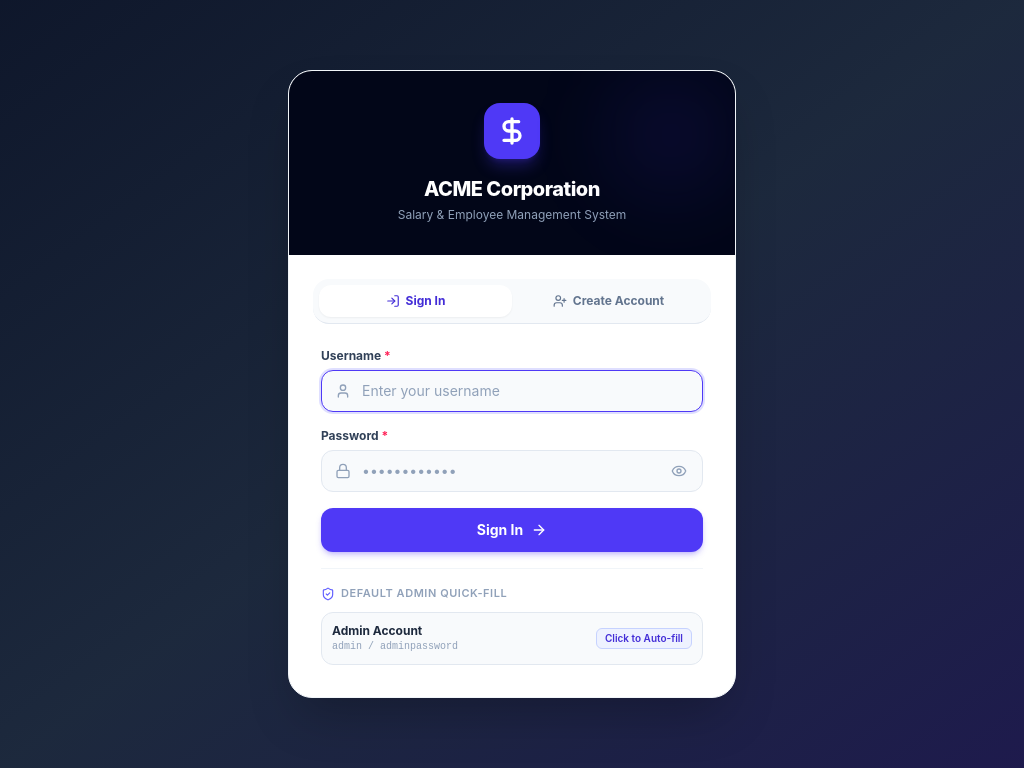
it: LoginPage Component & Edge Cases › should show error when passwords do not match during sign up
The image size is (1024, 768).
// Switch to Sign Up
Click the button with test id "signup-tab" at (608, 301), box [512,285,705,317]
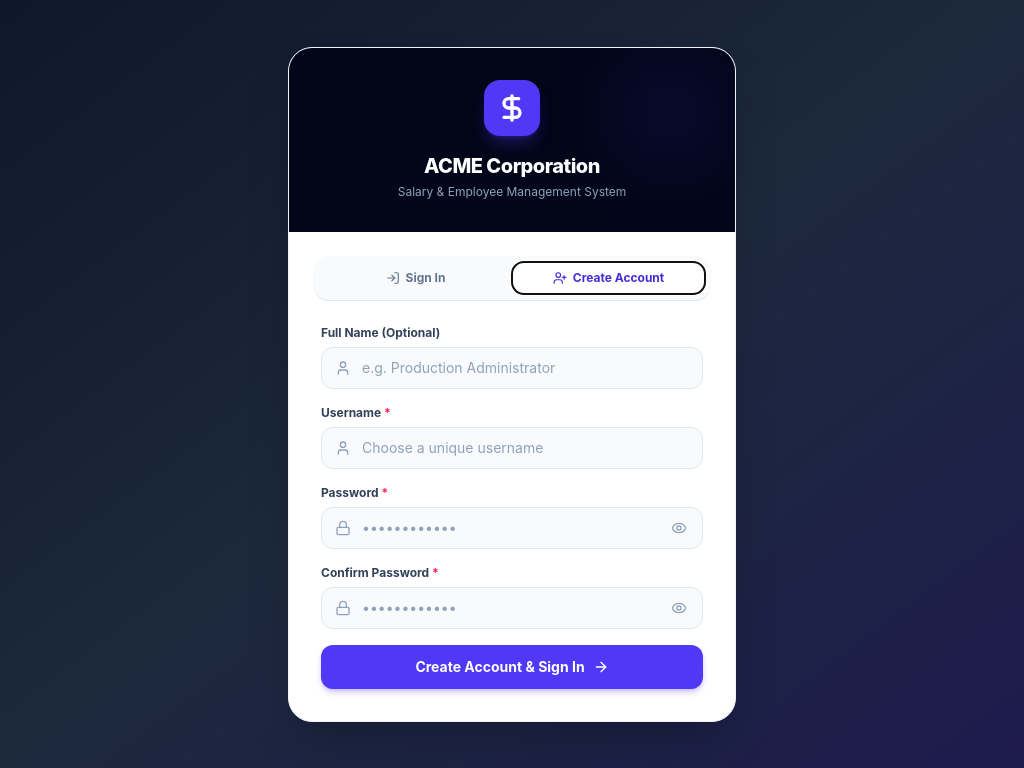
Type "newadmin" into the field with placeholder "Choose a unique username" at (512, 448), box [321,426,703,468]
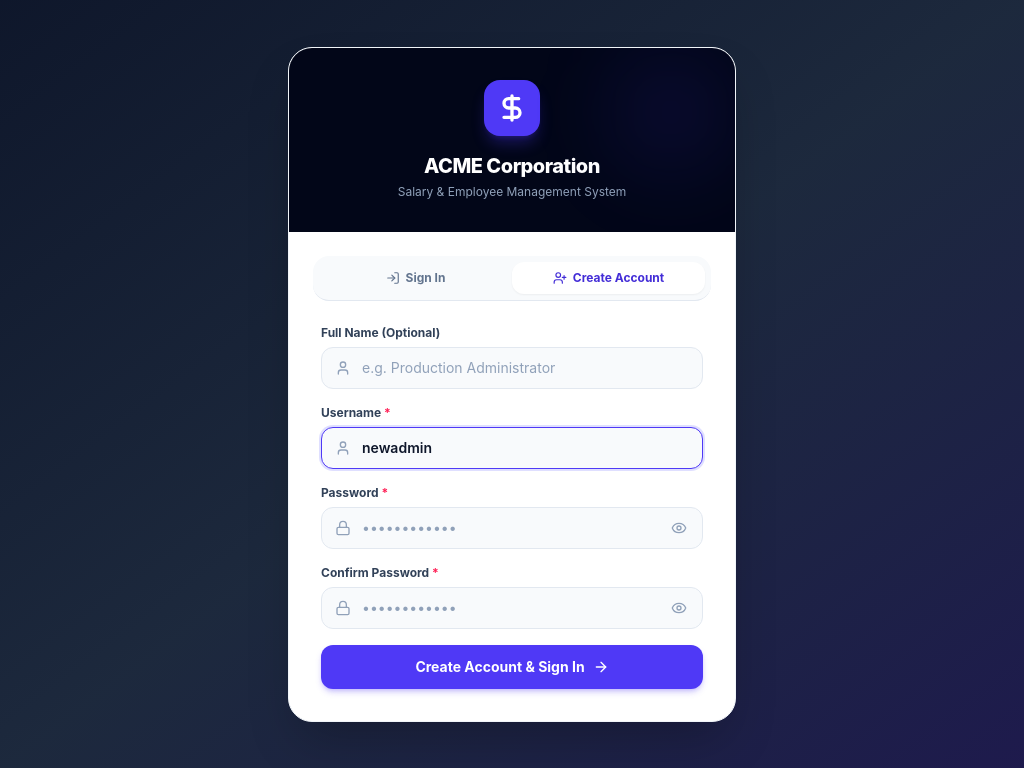
Type "password123" into the 1st password field with placeholder "••••••••••••" at (512, 528), box [321,506,703,548]
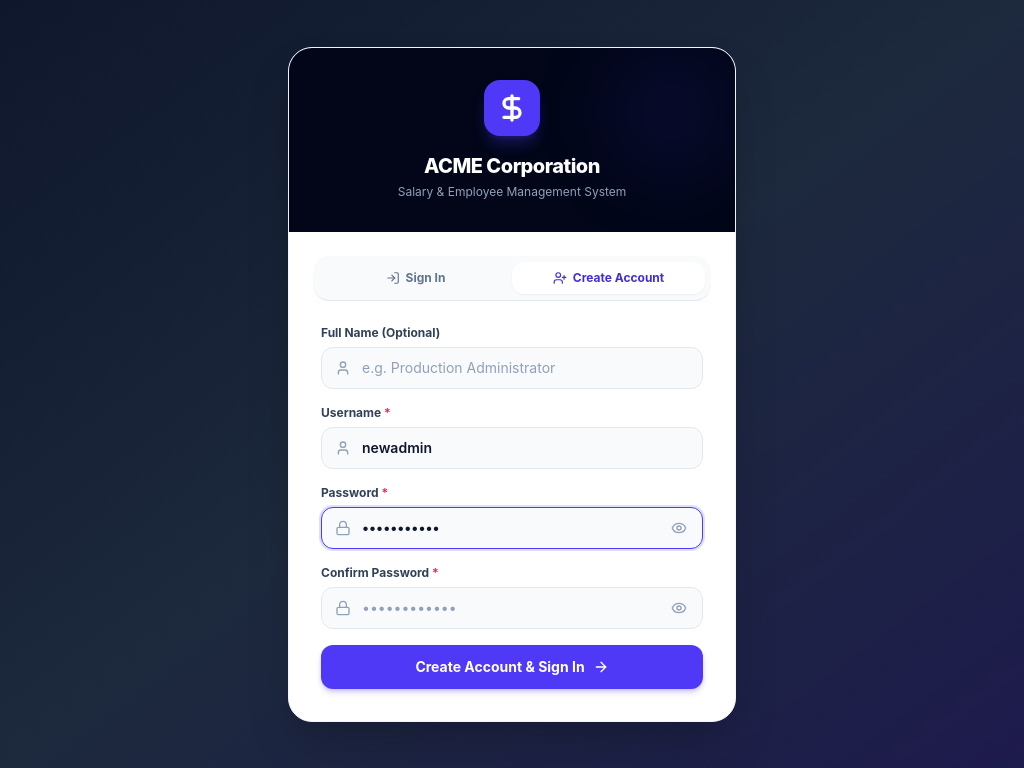
Type "mismatch456" into the password field with placeholder "••••••••••••" at (512, 608), box [321,586,703,628]
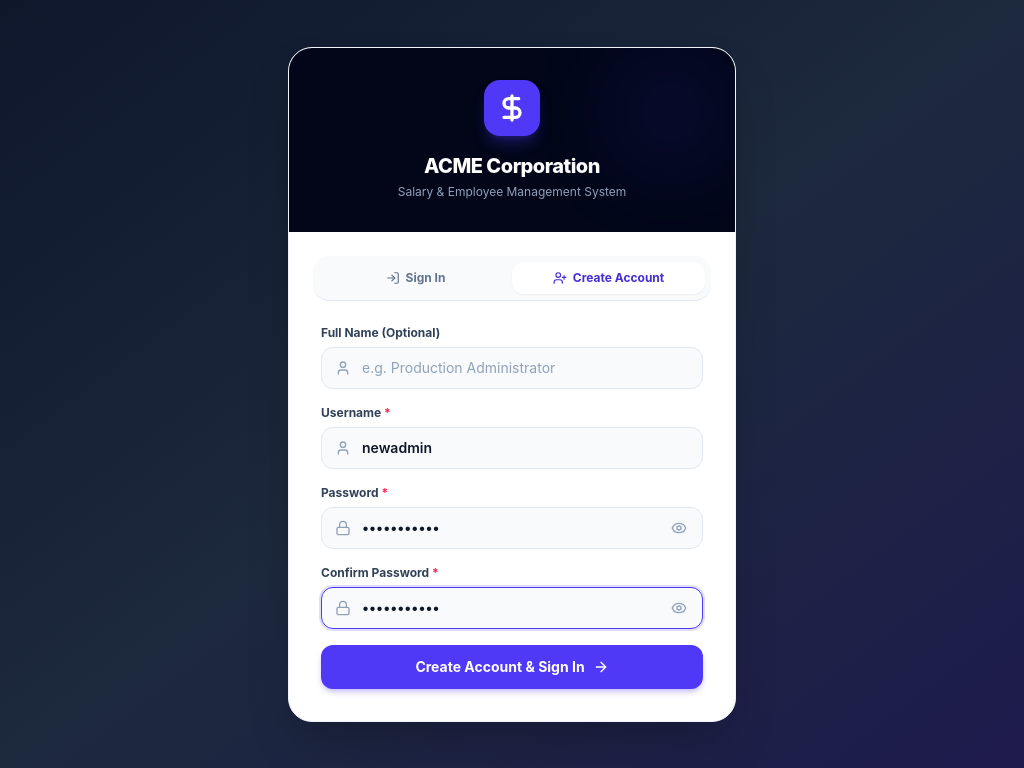
Submit the form named "Create Account & Sign In", box [289,300,735,720]
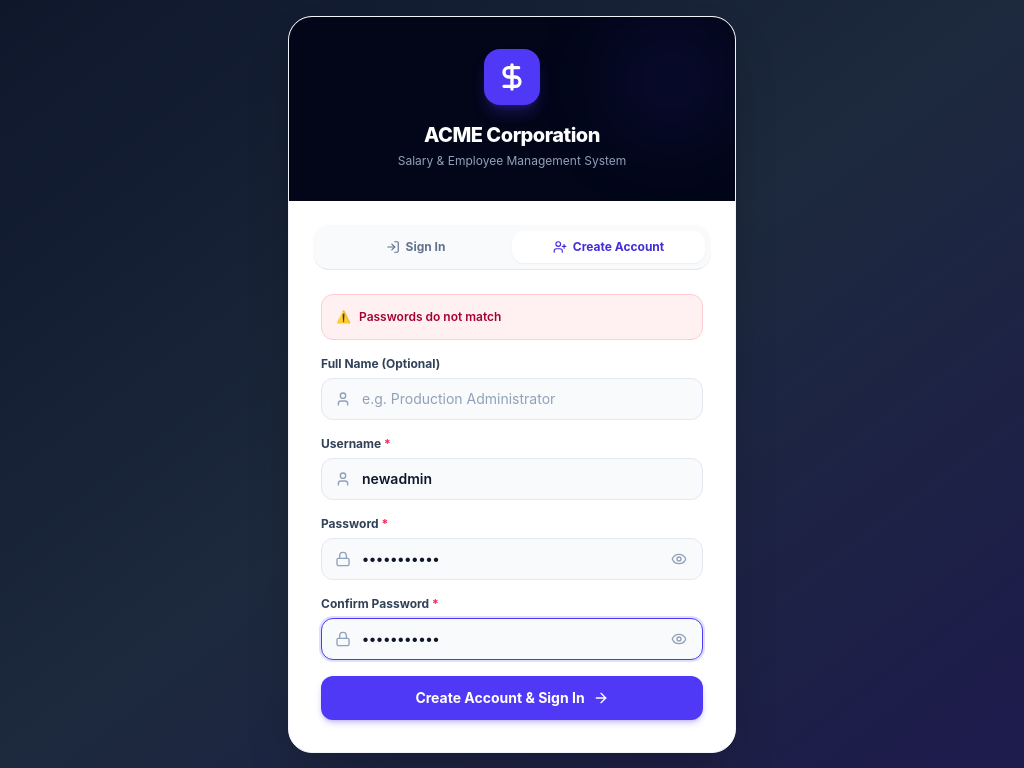
Now the text "Passwords do not match" is shown, box [359,309,501,325]
